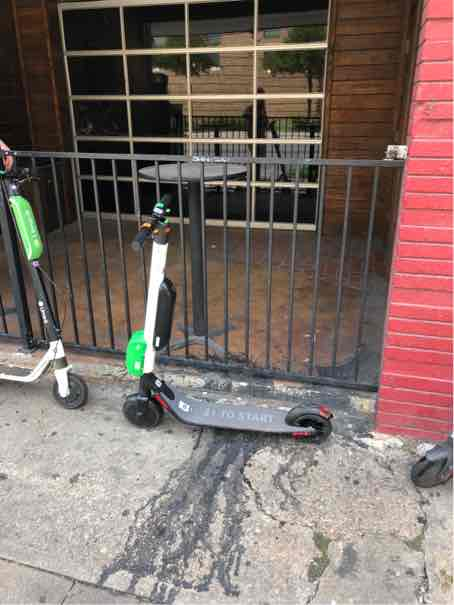scooter: (122, 188, 339, 447)
